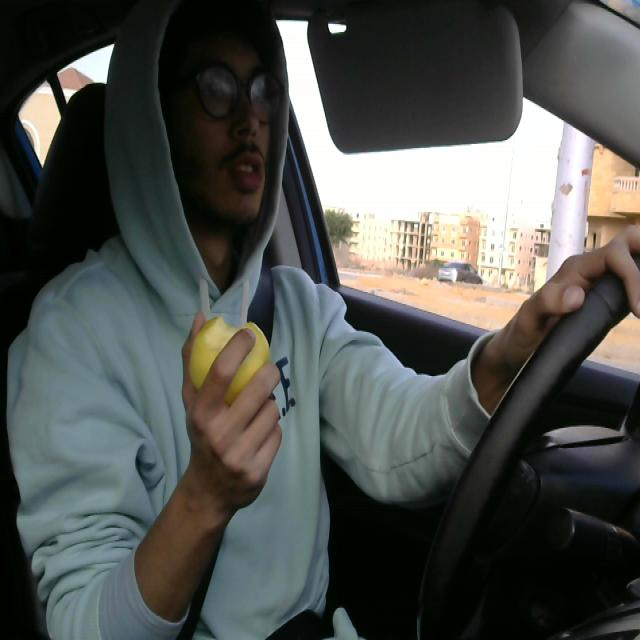eating: (190, 309, 267, 404)
